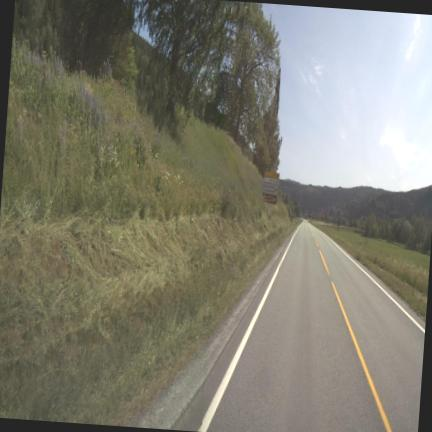Road: (175, 223, 424, 431)
